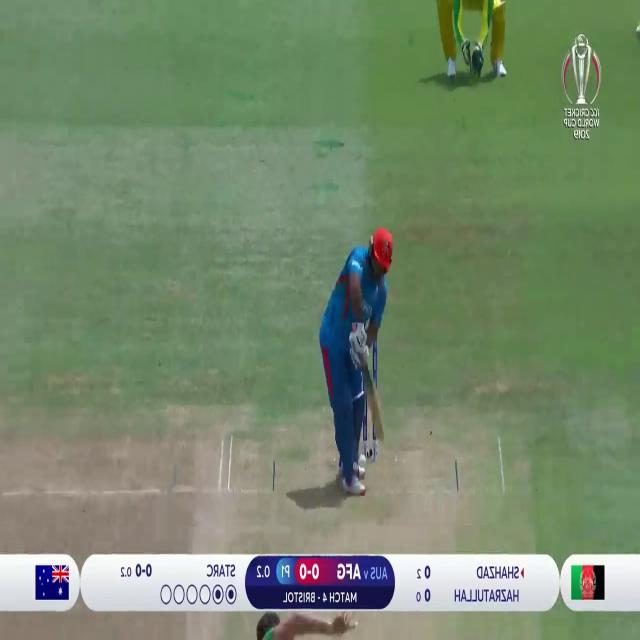ball: (358, 448, 368, 470)
